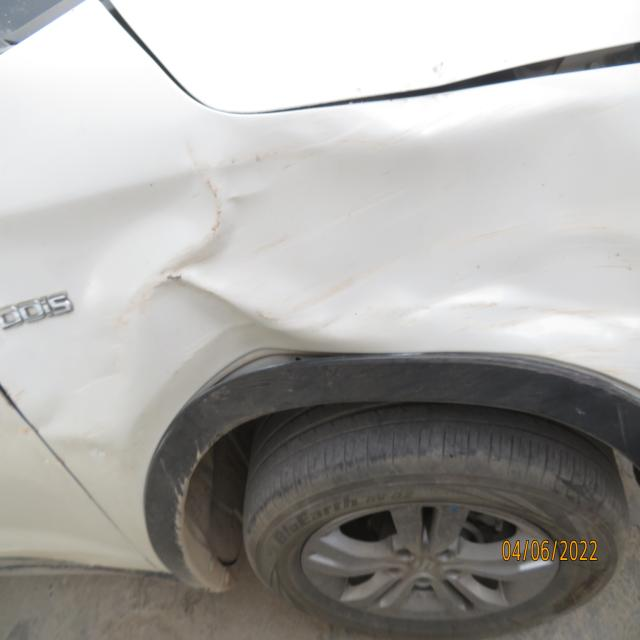damage: (94, 74, 640, 353), (192, 324, 358, 417)
